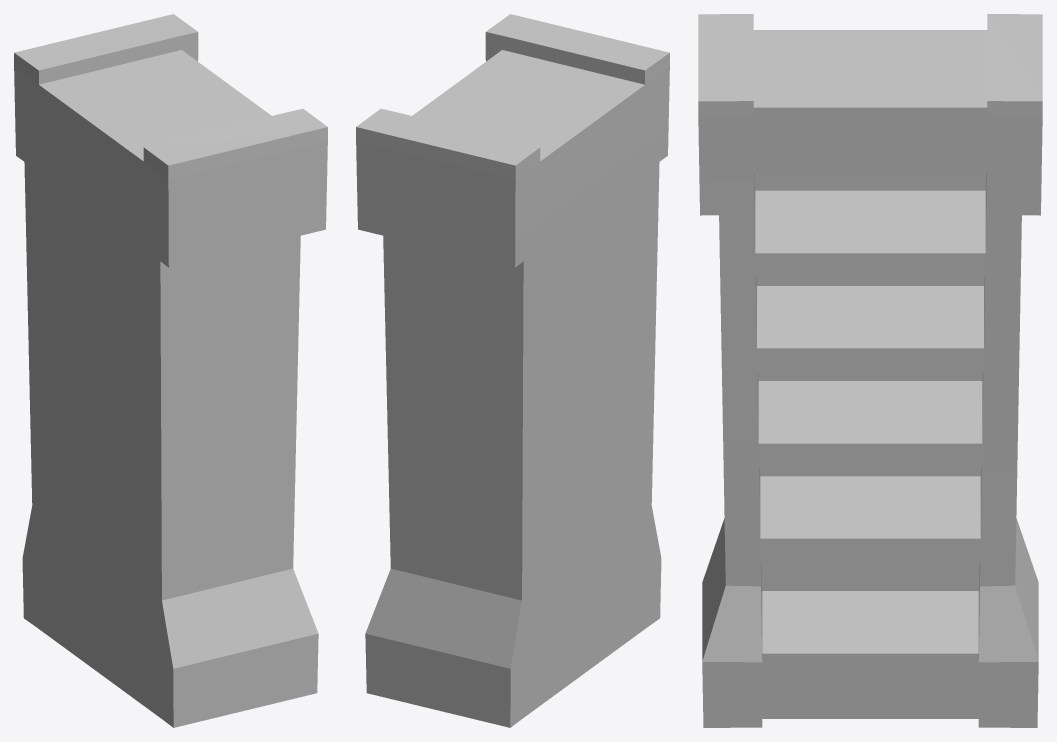
The model's file is BookCase.glb.
3 views of the same model, side by side, from view 1: azimuth 30°, elevation 25°; view 2: azimuth 150°, elevation 25°; view 3: azimuth 270°, elevation 25° (orthographic). The views are drawn at different scales.
Visible parts, largest first — view 1: BookCase; view 2: BookCase; view 3: BookCase.
Part boxes in pixels (x1,y1,x2,y2): BookCase: (14, 14, 327, 727); BookCase: (356, 14, 669, 727); BookCase: (698, 14, 1042, 727).
Size of the model in its own units: 0.4519 by 1.53 by 0.7577.
2 materials, 2 textured.
